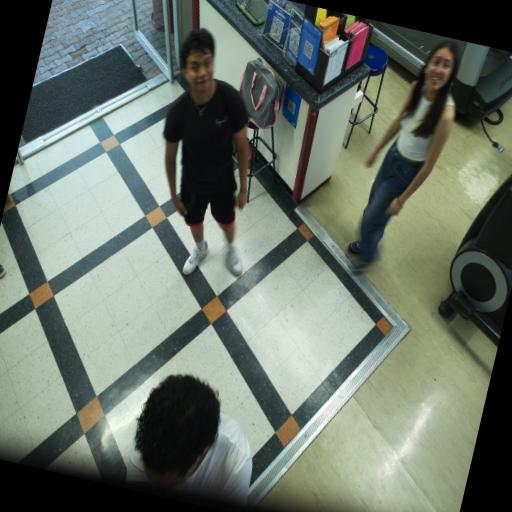person: (348, 41, 458, 270), (164, 29, 250, 275), (126, 375, 252, 506), (0, 264, 5, 278)
